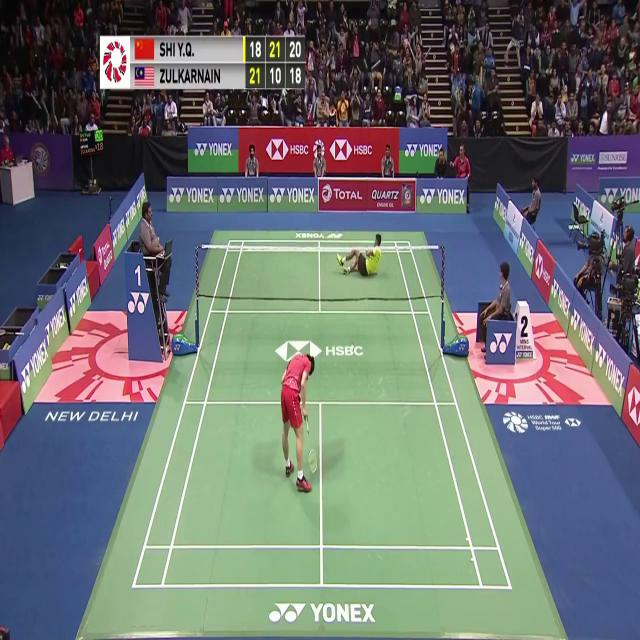Shuttlecock: (349, 341, 356, 352)
